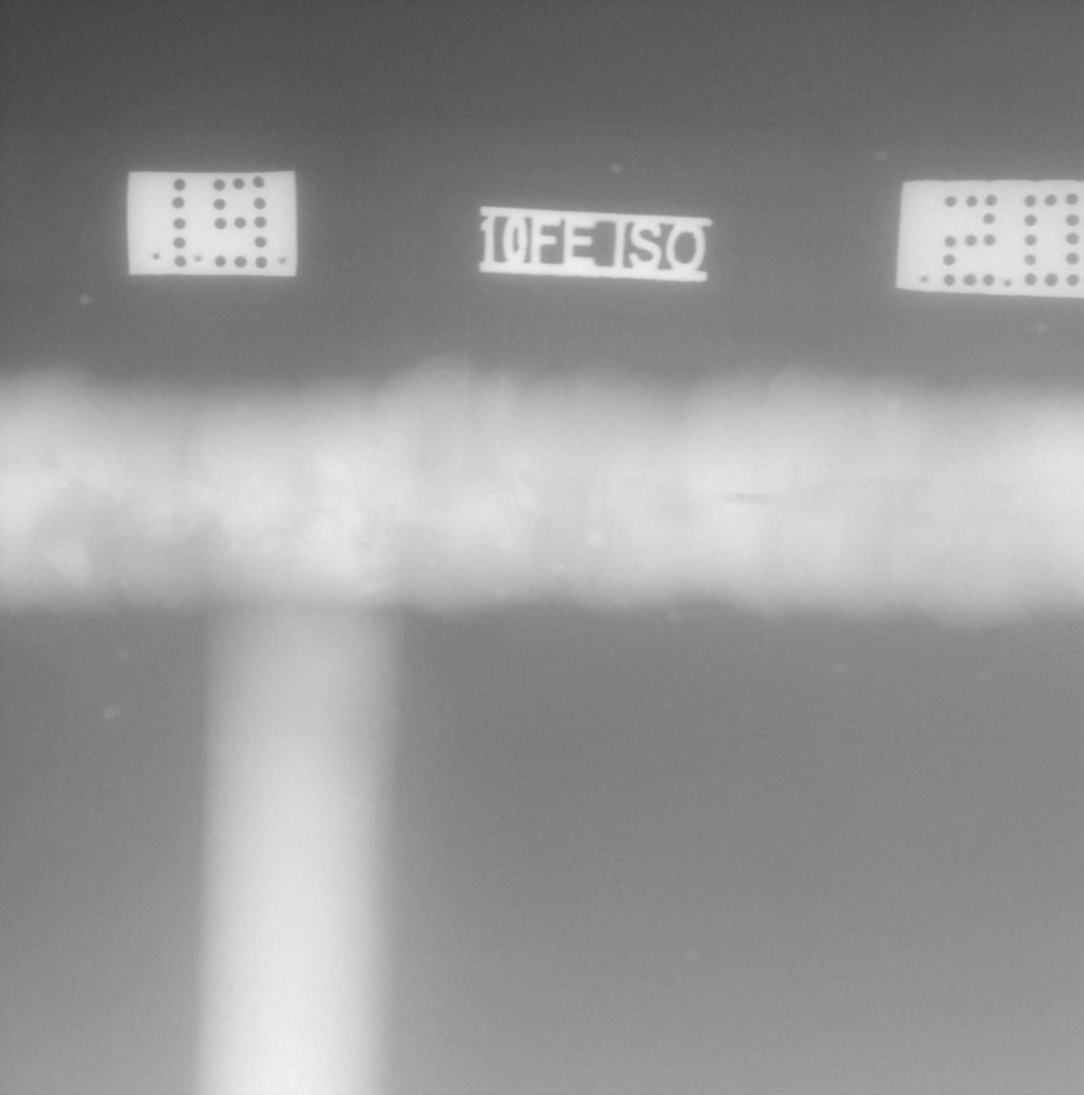Incomplete Root Penetration: (720, 492, 781, 505)
